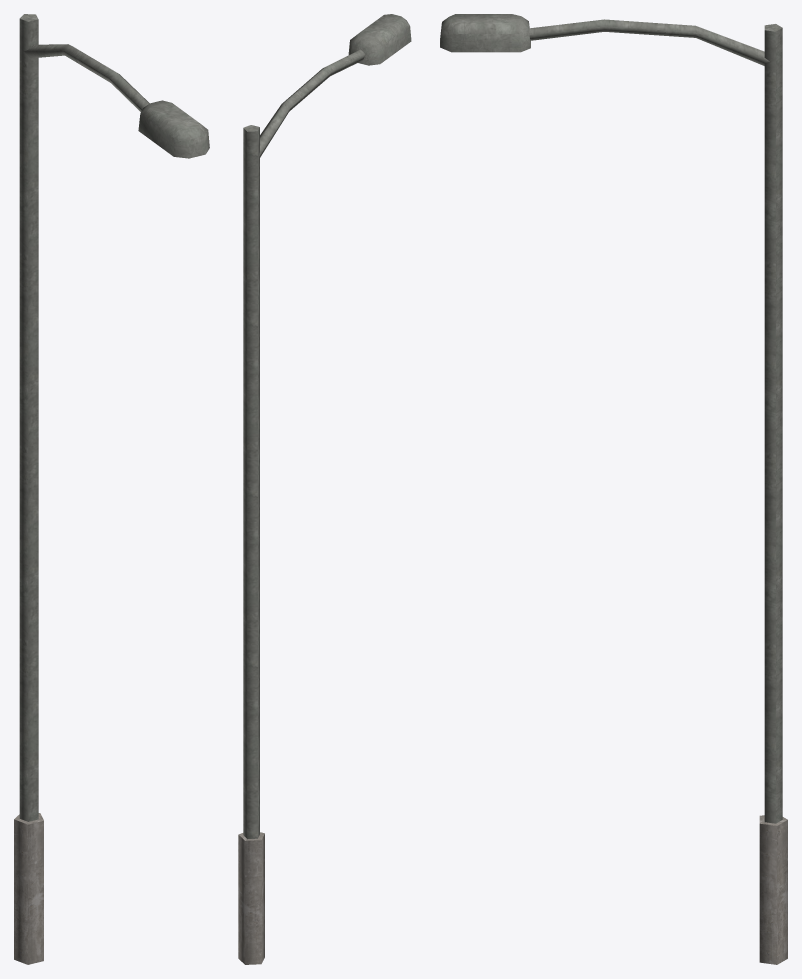
The model's file is Lamppostglb.glb.
3 views of the same model, side by side, from view 1: azimuth 30°, elevation 25°; view 2: azimuth 150°, elevation 25°; view 3: azimuth 270°, elevation 25° (orthographic). The views are drawn at different scales.
Parts seen in each view (by area): view 1: Lamppost.009; view 2: Lamppost.009; view 3: Lamppost.009.
Boxes of the visible parts, <box> form: Lamppost.009: <box>14,14,209,964</box>; Lamppost.009: <box>238,14,411,964</box>; Lamppost.009: <box>440,14,787,964</box>.
Bounding box in the file's own units: 0.3441 × 8.64 × 2.9.
3 materials, 3 textured.
